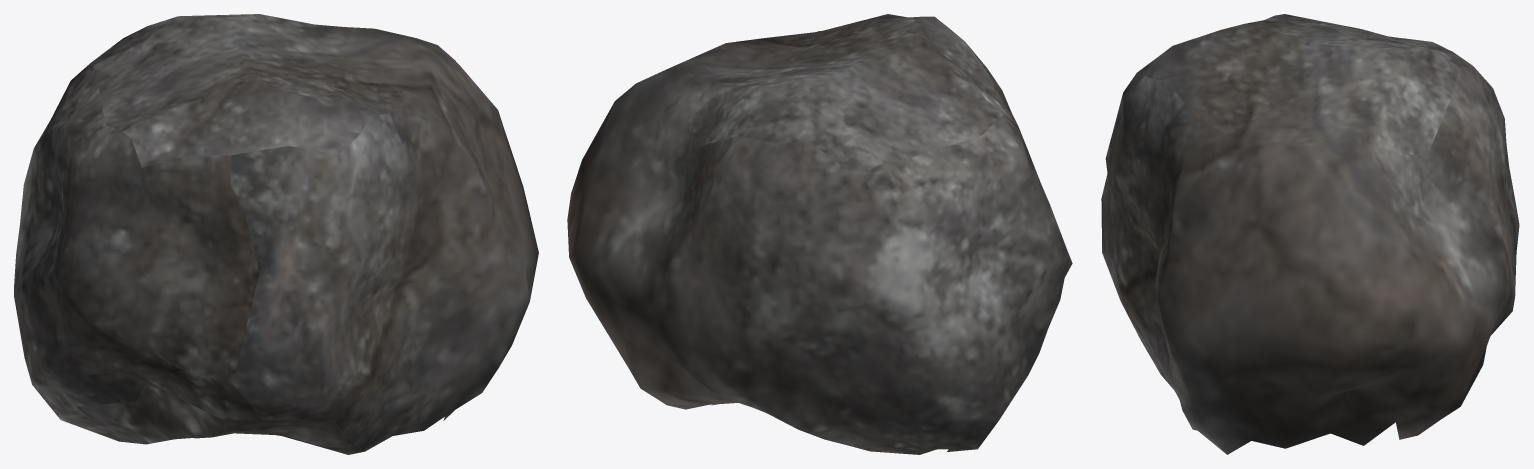
The model's file is N_Rock_7.fbx.
3 renders of one model, left to right at view 1: azimuth 30°, elevation 25°; view 2: azimuth 150°, elevation 25°; view 3: azimuth 270°, elevation 25°, orthographic. The views are drawn at different scales.
Visible parts, largest first — view 1: Large_2; view 2: Large_2; view 3: Large_2.
Part boxes in pixels (x1,y1,x2,y2): Large_2: (14, 14, 538, 454); Large_2: (567, 14, 1072, 454); Large_2: (1101, 14, 1519, 454).
Bounding box in the file's own units: 386 × 295 × 318.
